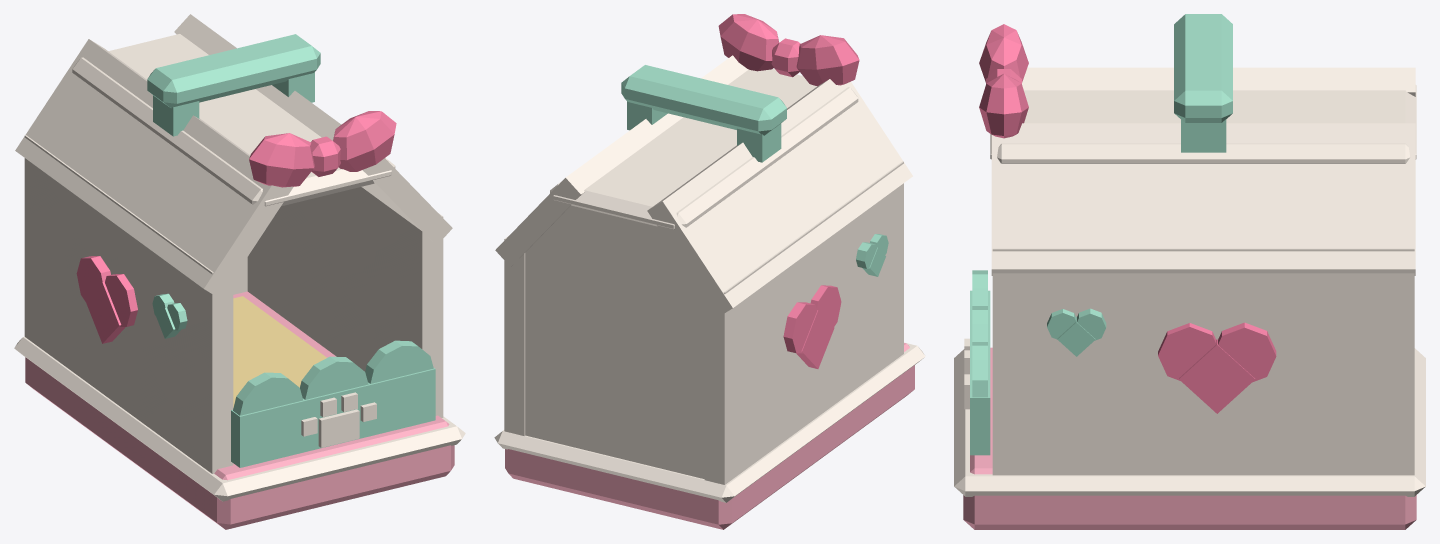
File: CleanACat_Prop_Carrier.fbx
3 renders of one model, left to right at view 1: azimuth 30°, elevation 25°; view 2: azimuth 150°, elevation 25°; view 3: azimuth 270°, elevation 25°, orthographic. The views are drawn at different scales.
Visible parts, largest first — view 1: CleanACat_Prop_Carrier, CleanACat_Prop_Carrier_Door_Swing; view 2: CleanACat_Prop_Carrier; view 3: CleanACat_Prop_Carrier, CleanACat_Prop_Carrier_Door_Swing.
Part boxes in pixels (x1,y1,x2,y2): CleanACat_Prop_Carrier: (14, 14, 465, 529); CleanACat_Prop_Carrier_Door_Swing: (231, 340, 435, 467); CleanACat_Prop_Carrier: (494, 14, 925, 529); CleanACat_Prop_Carrier: (954, 14, 1425, 529); CleanACat_Prop_Carrier_Door_Swing: (964, 270, 990, 455).
Size of the model in its own units: 1.44 by 2.03 by 2.08.
Materials: 1 (1 with a texture image).
